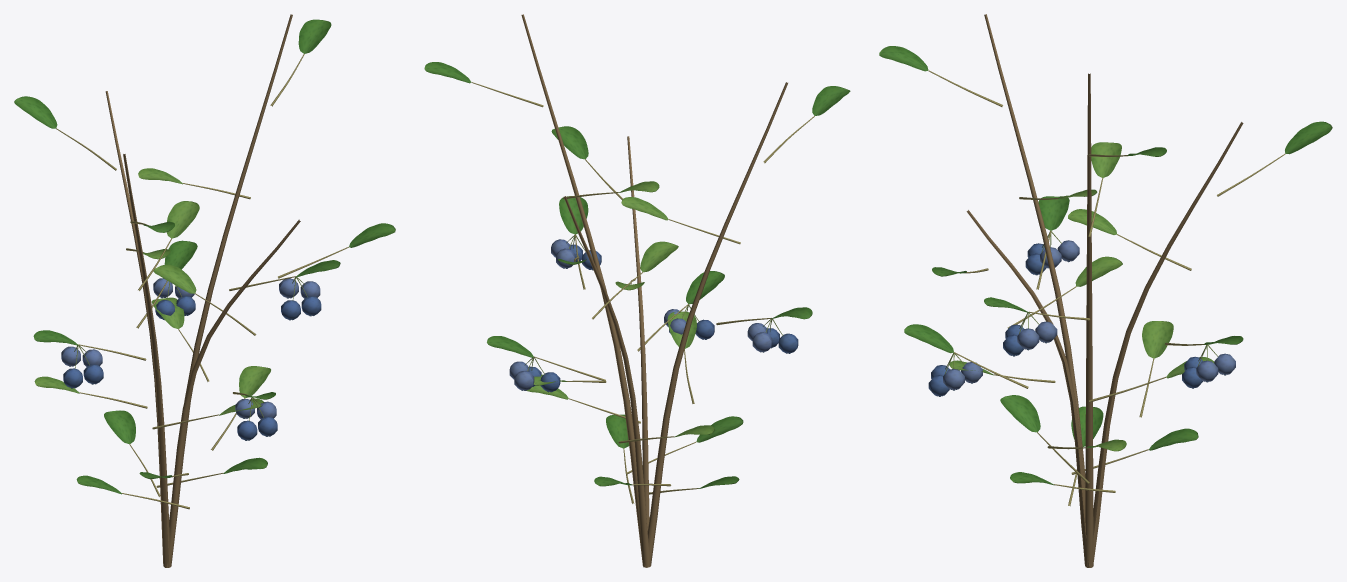
The model's file is blueberry-southern-highbush-mobile.glb.
3 views of the same model, side by side, from view 1: azimuth 30°, elevation 25°; view 2: azimuth 150°, elevation 25°; view 3: azimuth 270°, elevation 25° (orthographic). The views are drawn at different scales.
Visible parts, largest first — view 1: Blueberry · Southern Highbush; view 2: Blueberry · Southern Highbush; view 3: Blueberry · Southern Highbush.
Part boxes in pixels (x1,y1,x2,y2): Blueberry · Southern Highbush: [14, 14, 395, 567]; Blueberry · Southern Highbush: [424, 14, 850, 567]; Blueberry · Southern Highbush: [879, 14, 1332, 567].
Bounding box in the file's own units: 0.4902 × 0.7212 × 0.5304.
Materials: 8 (5 with a texture image).
